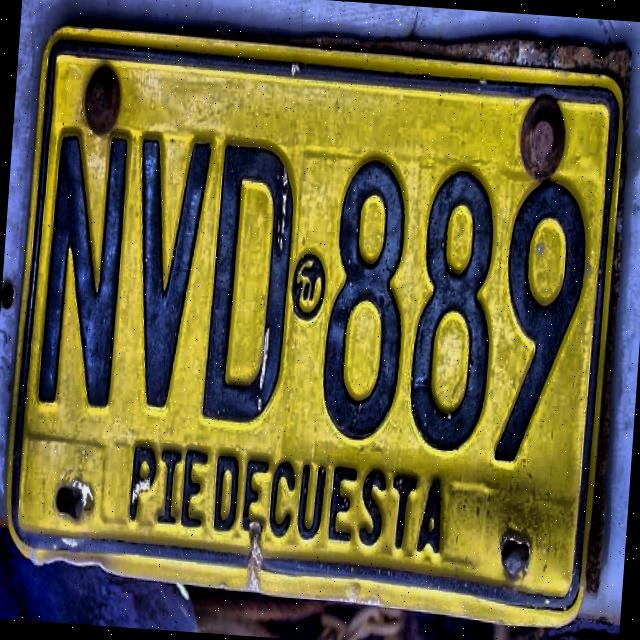8: (313, 150, 422, 448), (402, 160, 502, 466)
9: (488, 176, 596, 477)
D: (198, 136, 302, 440)
N: (35, 126, 134, 419)
V: (117, 127, 214, 417)
